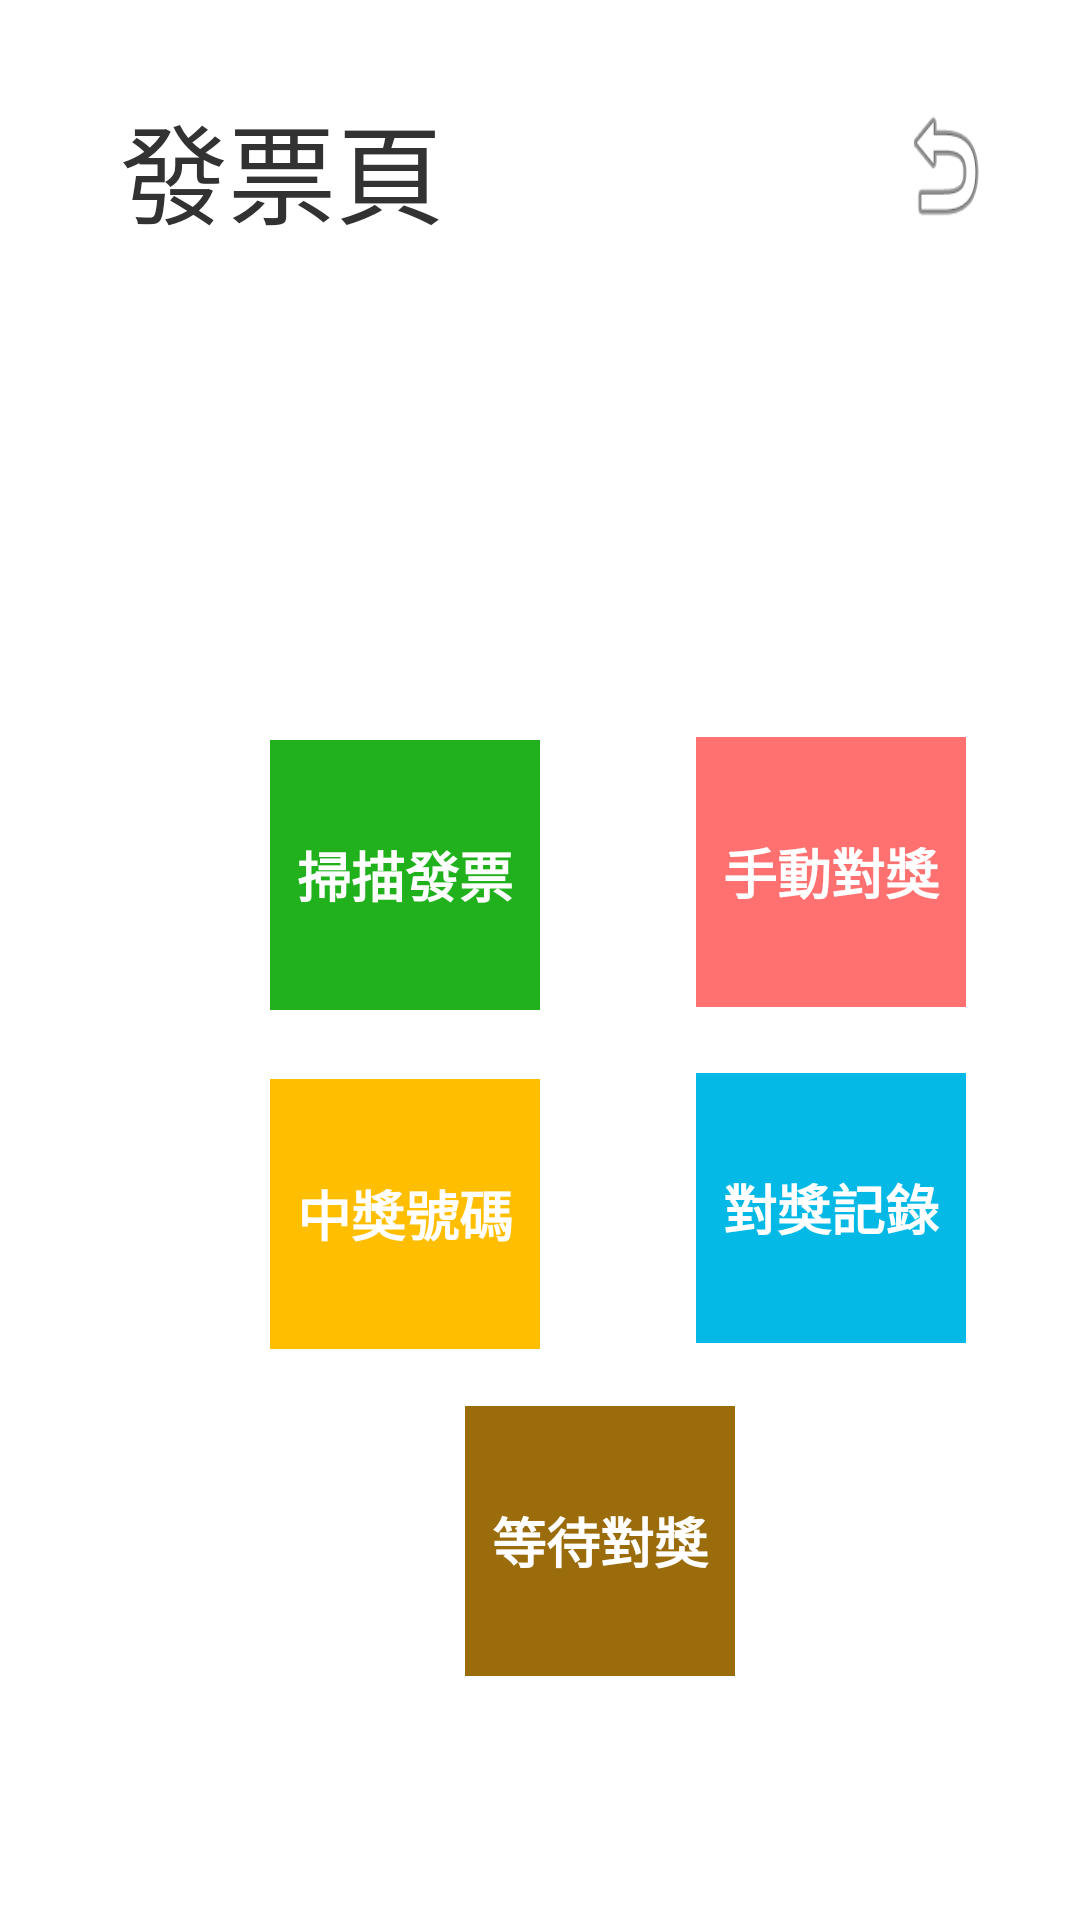

Named icons in this screenshot (1080px×1920px) and their bounding boxes, (x1, y1, x2, y2):
revert: (914, 117, 979, 215)
